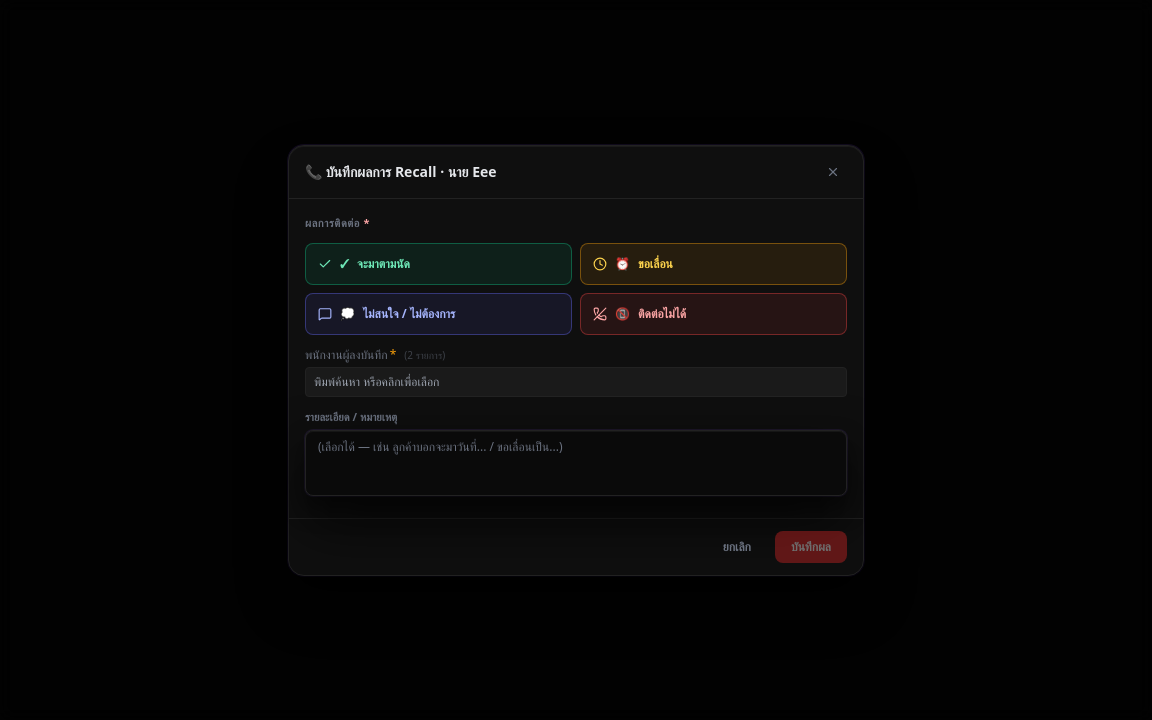
Test case: Phase 29 · O3 auto-snooze hint visibility › O3.3 hint VISIBLE when no-answer selected
What coordinates should you click on to do the following:
click the button with test id "recall-outcome-card-no-answer"
I would click on:
 (662, 314)
Its box is [580, 293, 847, 335].
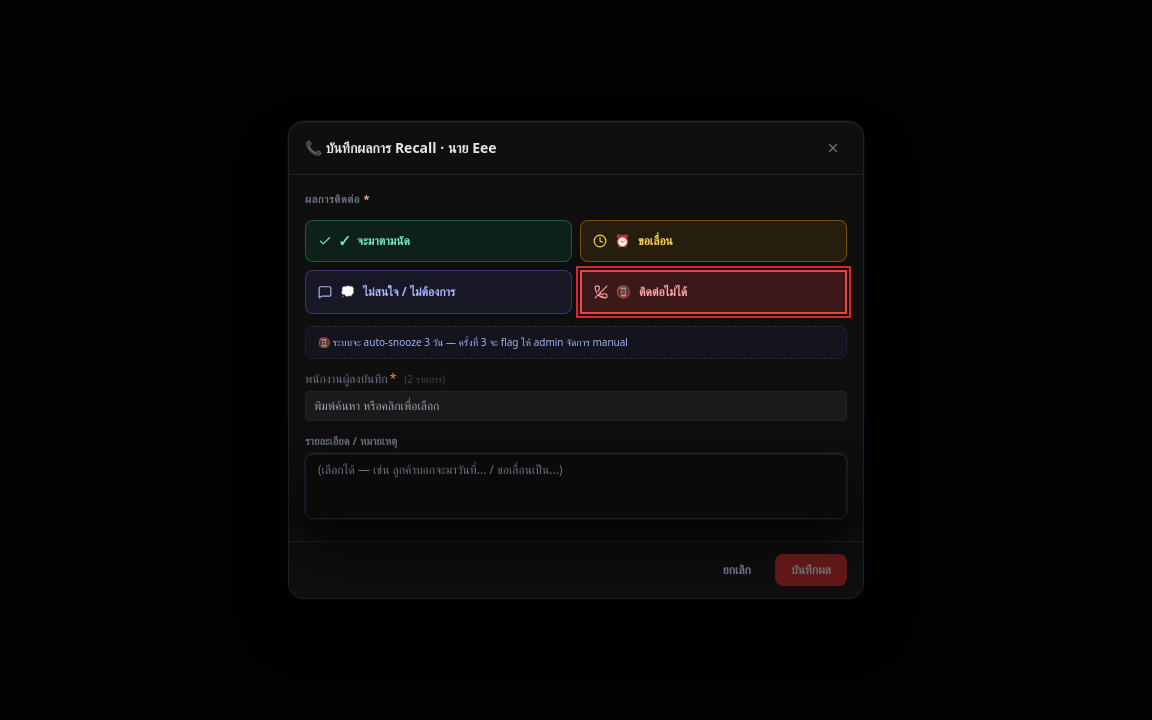
Check: the text with test id "recall-outcome-auto-snooze-hint" is shown, box [305, 326, 847, 358]
Check: the text with test id "recall-outcome-auto-snooze-hint" shows "auto-snooze 3 วัน", box [318, 334, 628, 348]
